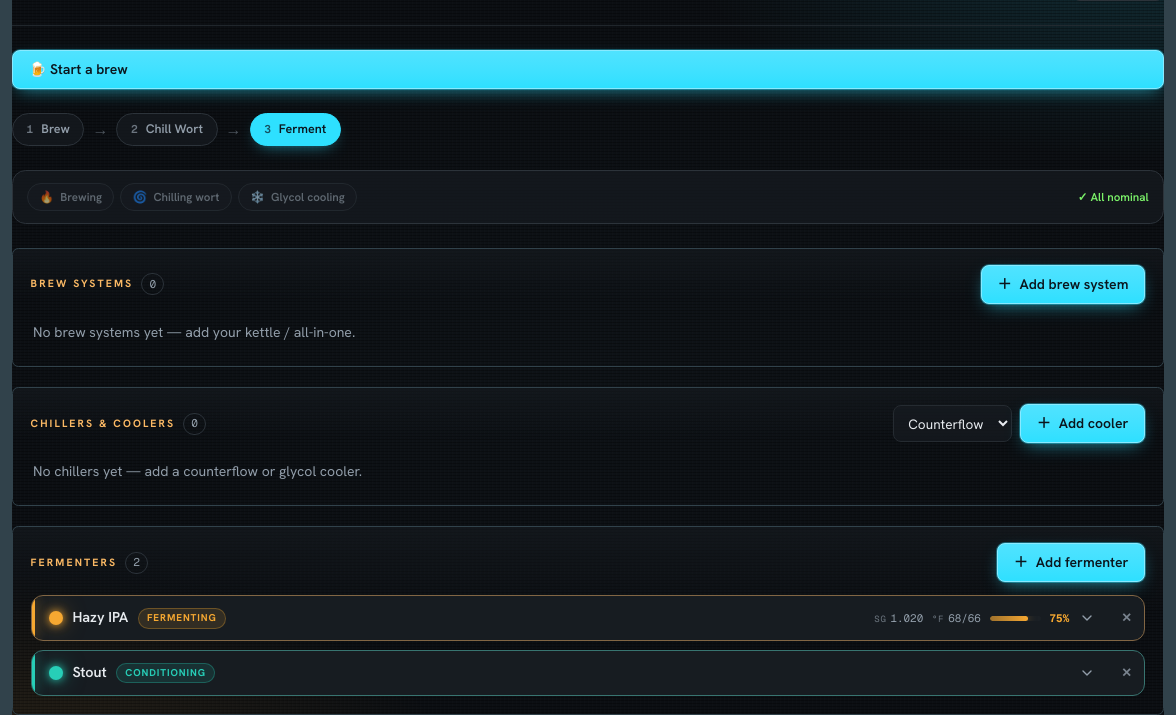
it: FermRowChart — mini fermentation chart › draws the gravity/temp paths when the linked batch has readings
(page scrolled)
Click the button "Hazy IPA Fermenting SG 1.020 °F 68/66 75%" at (100, 617), box [32, 596, 1108, 640]
(page scrolled)
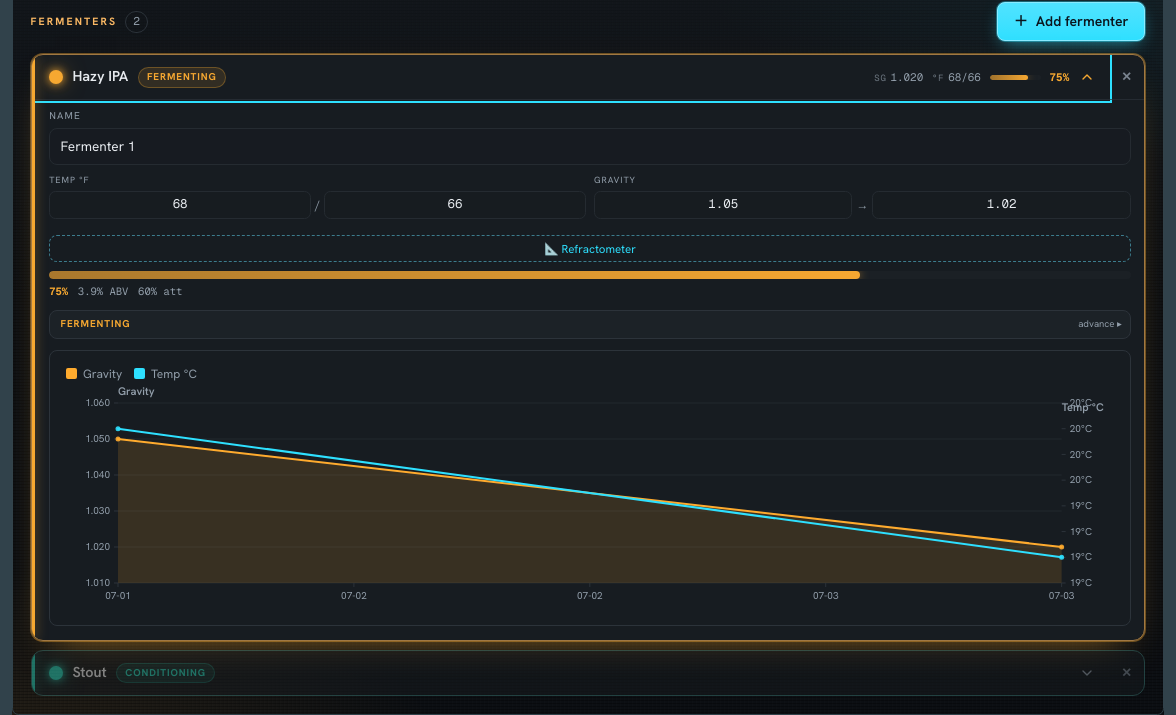
Expected: the picture with test id "fermentation-chart" is shown, [66, 391, 1114, 611]
